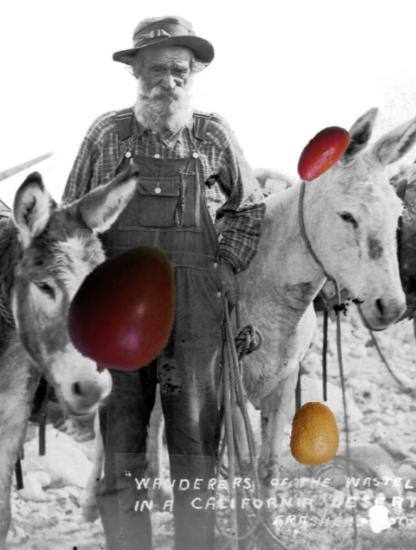Kiwi: (282, 402, 348, 468)
Mango: (56, 239, 197, 380)
Potato: (289, 120, 356, 187)
